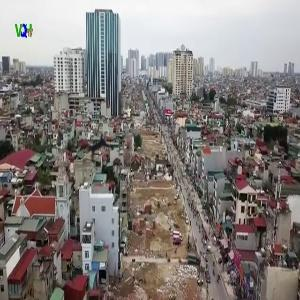drone: (66, 115, 136, 185)
